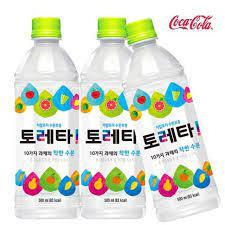toreta: (128, 20, 221, 222), (11, 13, 82, 223), (84, 13, 138, 220)
